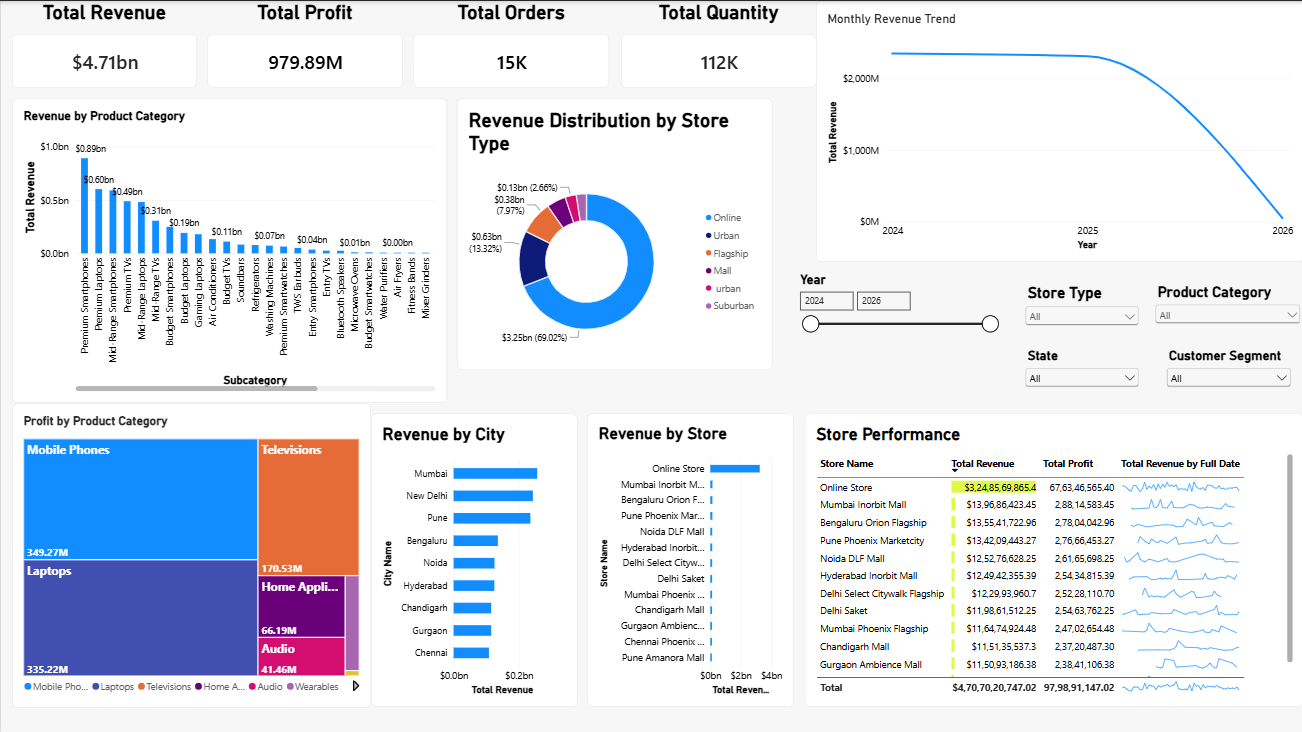

Layout of this report page (visuals, bound fields, positions):
{"tool":"powerbi","page":{"name":"Retail Sales Dashboard","canvas":[1920,1080],"ordinal":1},"visuals":[{"type":"cardVisual","title":"Total Revenue","fields":{"Data":["Fact Sales.Total Revenue"]},"box":[16,0,272,128],"z":0},{"type":"cardVisual","title":"Total Profit","fields":{"Data":["Fact Sales.Total Profit"]},"box":[304,0,288,128],"z":1},{"type":"cardVisual","title":"Total Orders","fields":{"Data":["Fact Sales.Total Orders"]},"box":[608,0,288,128],"z":2},{"type":"cardVisual","title":"Total Quantity","fields":{"Data":["Fact Sales.Total Quantity"]},"box":[912,0,288,128],"z":3},{"type":"clusteredColumnChart","title":"Revenue by Product Category","fields":{"Category":["Dim Product.Category","Dim Product.Subcategory"],"Y":["Fact Sales.Total Revenue"]},"box":[16,144,640,448],"z":4},{"type":"treemap","title":"Profit by Product Category","fields":{"Group":["Dim Product.Category"],"Values":["Fact Sales.Total Profit"]},"box":[16,592,528,448],"z":5},{"type":"clusteredBarChart","title":"Revenue by Store","fields":{"Category":["Dim Store.Store Name"],"Y":["Fact Sales.Total Revenue"]},"box":[864,608,304,432],"z":6},{"type":"lineChart","title":"Monthly Revenue Trend","fields":{"Category":["Dim Date.Year","Dim Date.Month Name"],"Y":["Fact Sales.Total Revenue"]},"box":[1200,0,720,384],"z":7},{"type":"donutChart","title":"Revenue Distribution by Store Type","fields":{"Category":["Dim Store.Store Type"],"Y":["Fact Sales.Total Revenue"]},"box":[672,144,464,400],"z":8},{"type":"clusteredBarChart","title":"Revenue by City","fields":{"Category":["Dim City.City Name"],"Y":["Fact Sales.Total Revenue"]},"box":[544,608,304,432],"z":9},{"type":"slicer","title":"Product Category","fields":{"Values":["Dim Product.Category"]},"box":[1696,416,224,80],"z":10},{"type":"slicer","fields":{"Values":["Dim Customer.Customer Segment"]},"box":[1712,512,192,80],"z":11},{"type":"slicer","fields":{"Values":["Dim Date.Year"]},"box":[1168,400,304,192],"z":12},{"type":"slicer","fields":{"Values":["Dim Store.Store Type"]},"box":[1504,416,176,64],"z":14},{"type":"slicer","fields":{"Values":["Dim State.State Name"]},"box":[1504,512,176,80],"z":15},{"type":"tableEx","title":"Store Performance","fields":{"Values":["Dim Store.Store Name","Fact Sales.Total Revenue","Fact Sales.Total Profit","SparklineData(Fact Sales.Total Revenue_[Dim Date.Full Date])"]},"box":[1184,608,736,432],"z":16}]}

Visuals, with their boxes in screenshot pixels (x1, y1, x2, y2), scaled from the page's 1920x1080 canvas onto the 1302x732 screenshot:
"Total Revenue" cardVisual: 11,0,195,87
"Total Profit" cardVisual: 206,0,401,87
"Total Orders" cardVisual: 412,0,608,87
"Total Quantity" cardVisual: 618,0,814,87
"Revenue by Product Category" clusteredColumnChart: 11,98,445,401
"Profit by Product Category" treemap: 11,401,369,705
"Revenue by Store" clusteredBarChart: 586,412,792,705
"Monthly Revenue Trend" lineChart: 814,0,1301,260
"Revenue Distribution by Store Type" donutChart: 456,98,770,369
"Revenue by City" clusteredBarChart: 369,412,575,705
"Product Category" slicer: 1150,282,1301,336
slicer - Dim Customer.Customer Segment: 1161,347,1291,401
slicer - Dim Date.Year: 792,271,998,401
slicer - Dim Store.Store Type: 1020,282,1139,325
slicer - Dim State.State Name: 1020,347,1139,401
"Store Performance" tableEx: 803,412,1301,705
